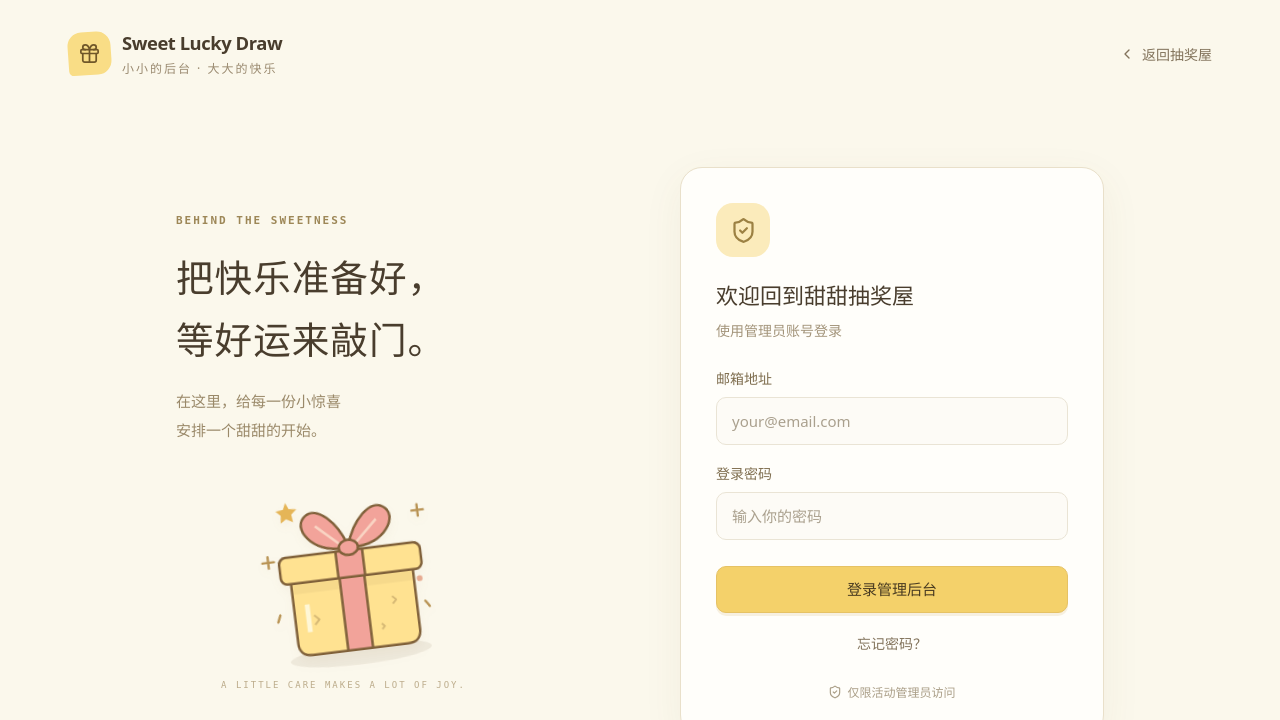
Test: admin session and permissions › generates a batch and retains the returned codes without a second fetch
This screenshot has width=1280, height=720.
Type "admin@example.test" into the field labelled "邮箱地址" at (892, 421), box top-left (716, 397), bottom-right (1068, 445)
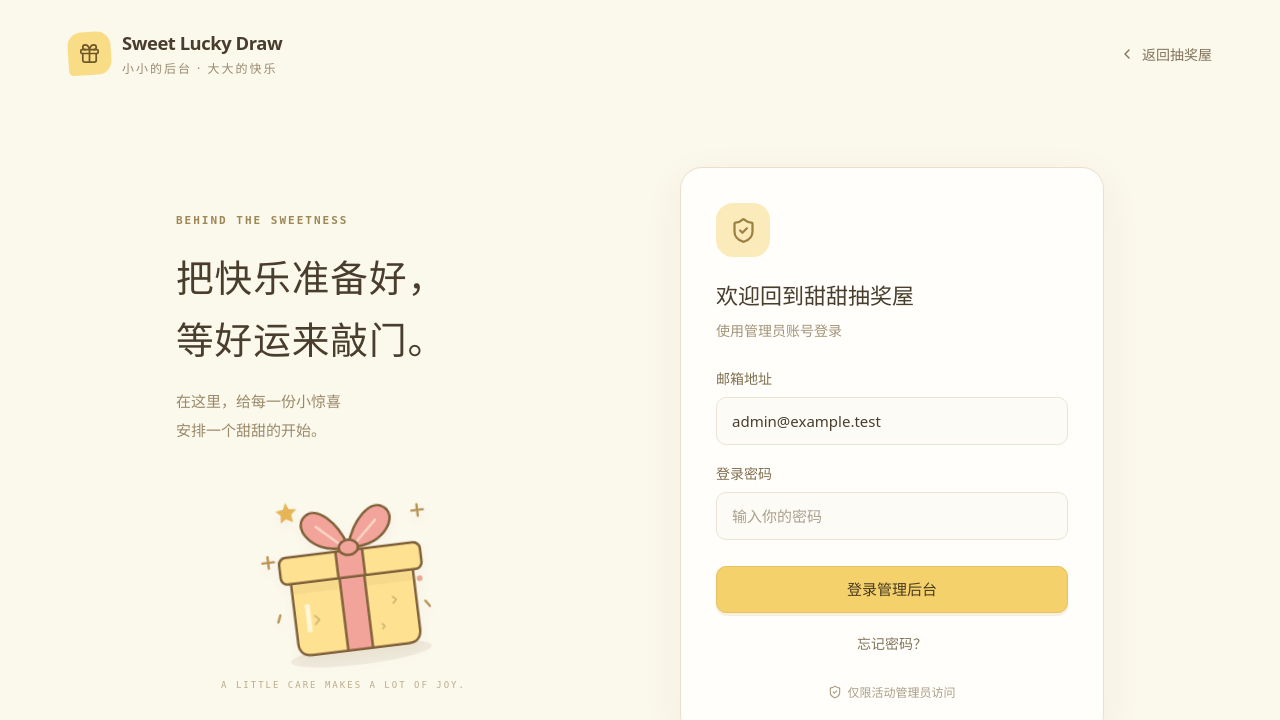
Type "only-in-memory" into the password field labelled "登录密码" at (892, 516), box top-left (716, 492), bottom-right (1068, 540)
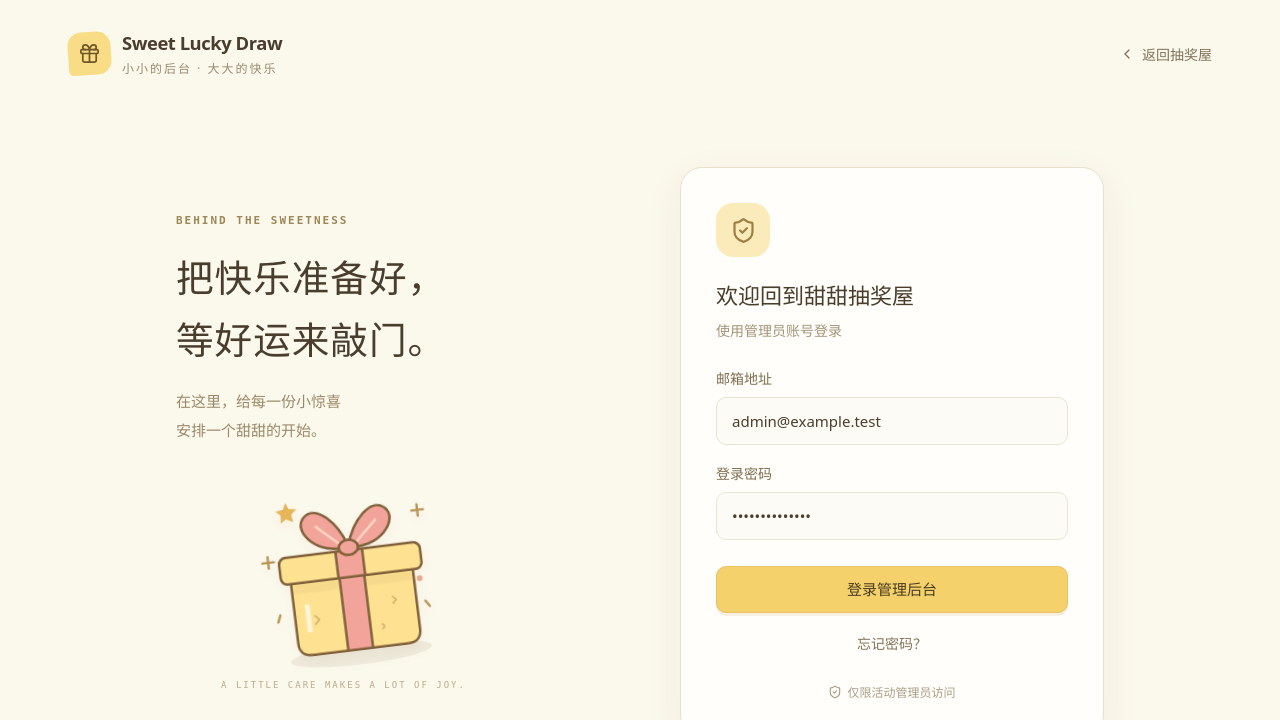
Click the button "登录管理后台" at (892, 590), box top-left (716, 566), bottom-right (1068, 613)
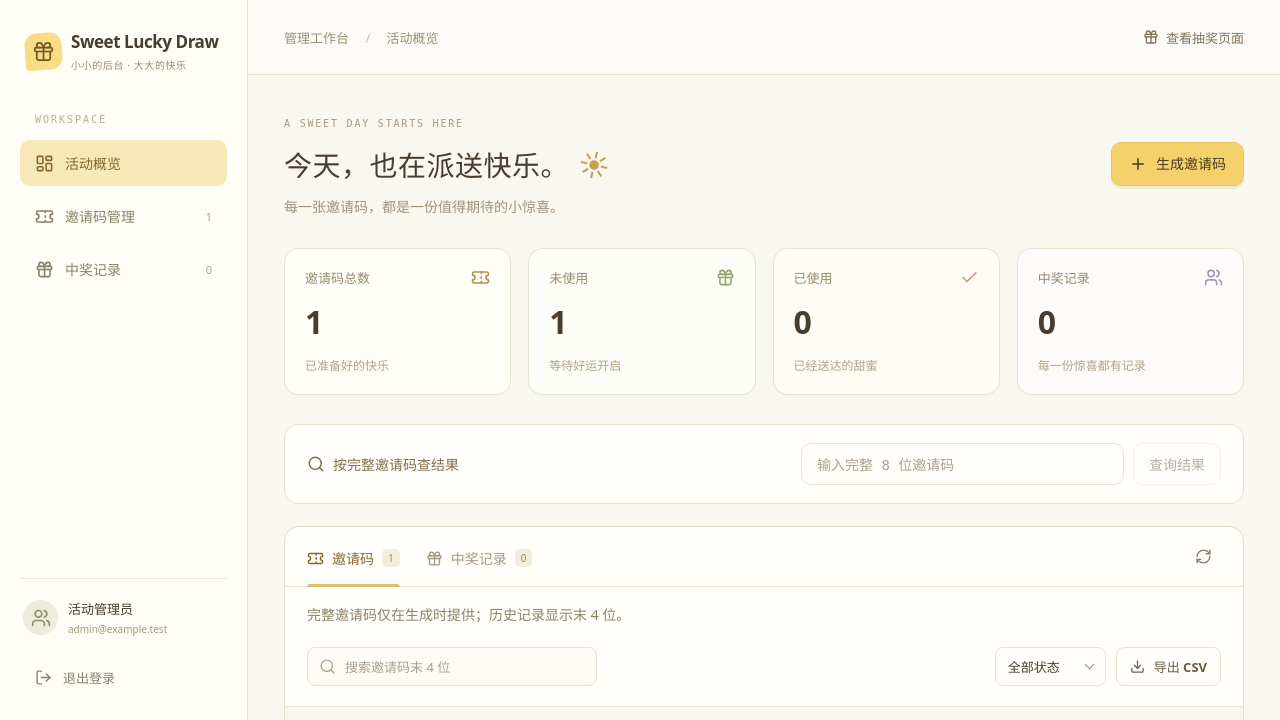
Click the button "生成邀请码" at (1178, 164), box top-left (1111, 142), bottom-right (1244, 186)
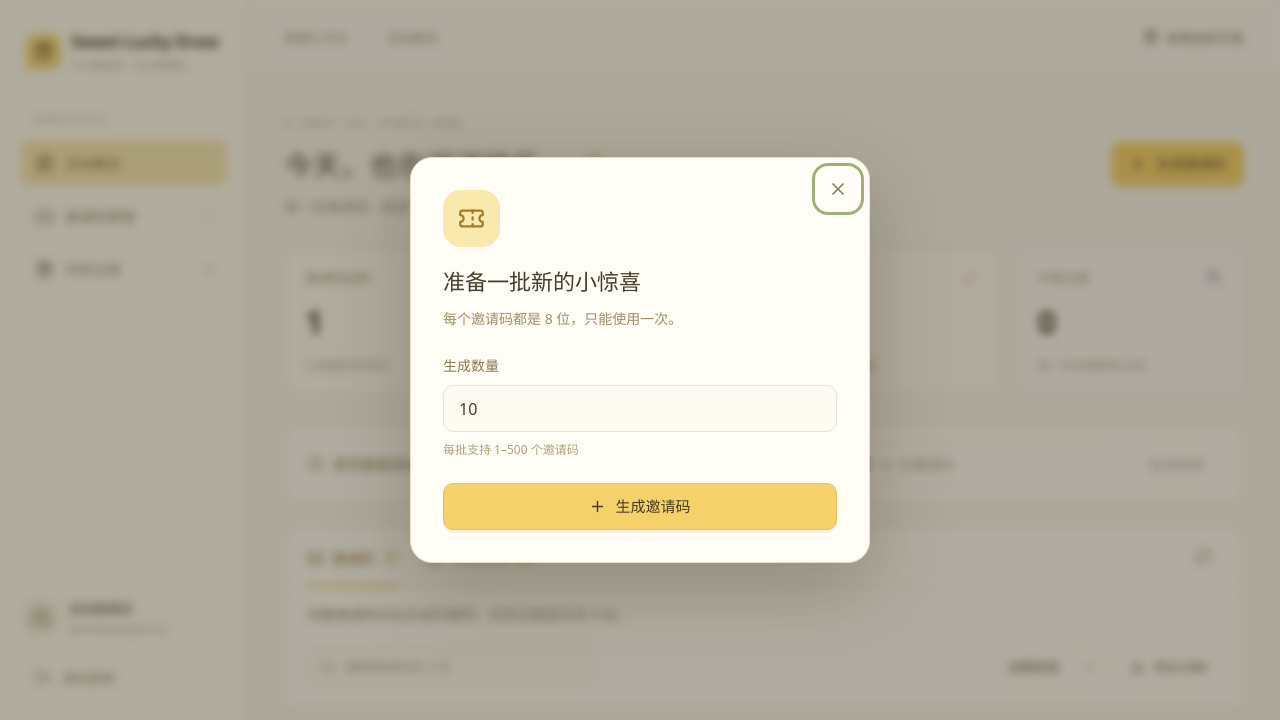
Replace the text in the number field labelled "生成数量" with "1" at (640, 409), box top-left (443, 385), bottom-right (837, 432)
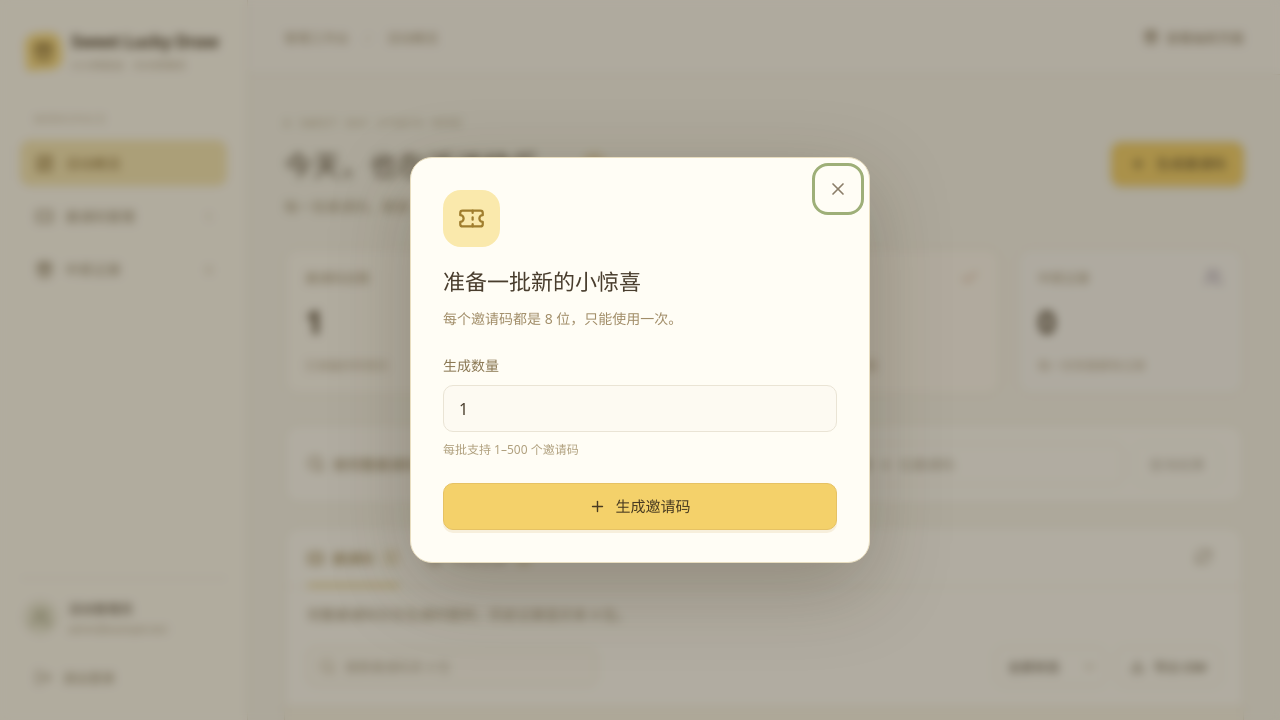
Click the button "生成邀请码" at (640, 507), box top-left (443, 483), bottom-right (837, 530)
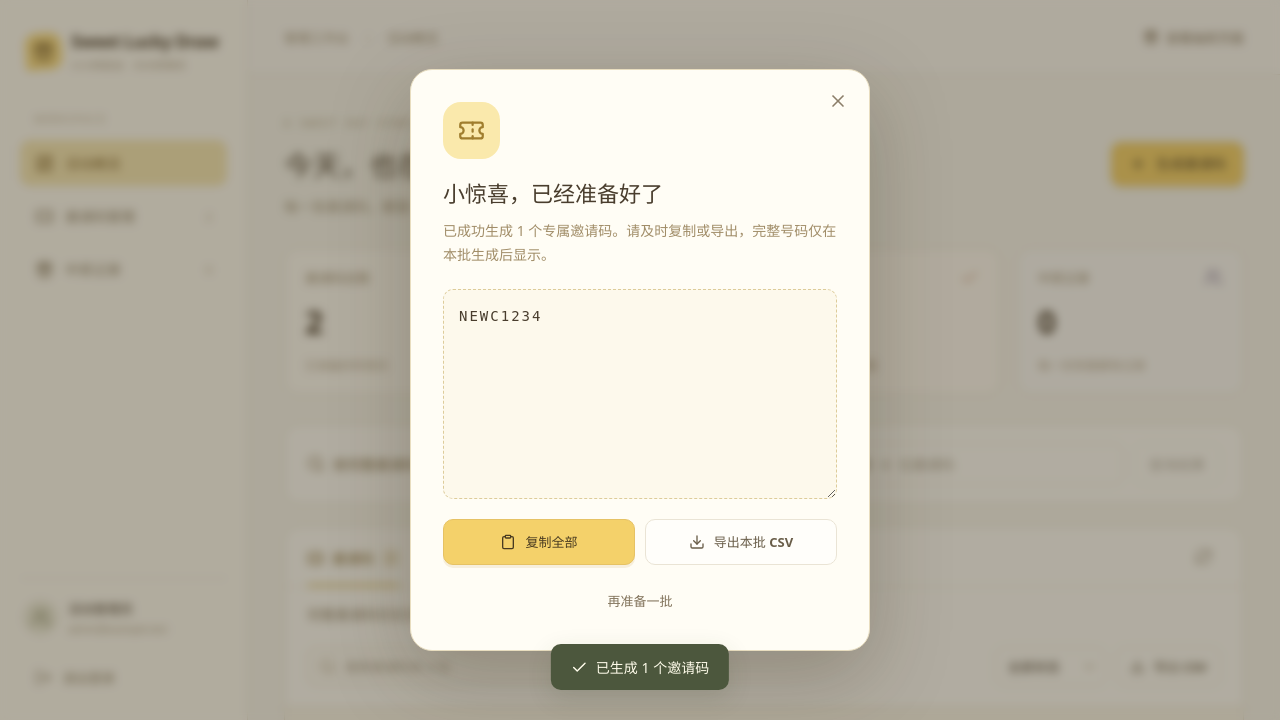
Check: the button "复制全部" is enabled, box top-left (443, 519), bottom-right (635, 565)
Check: the text box named "本次生成的邀请码" holds "NEWC1234", box top-left (443, 289), bottom-right (837, 499)
